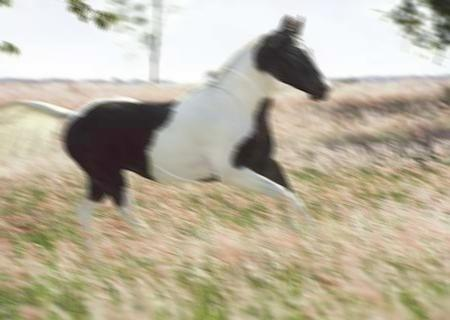horse: (0, 13, 332, 238)
